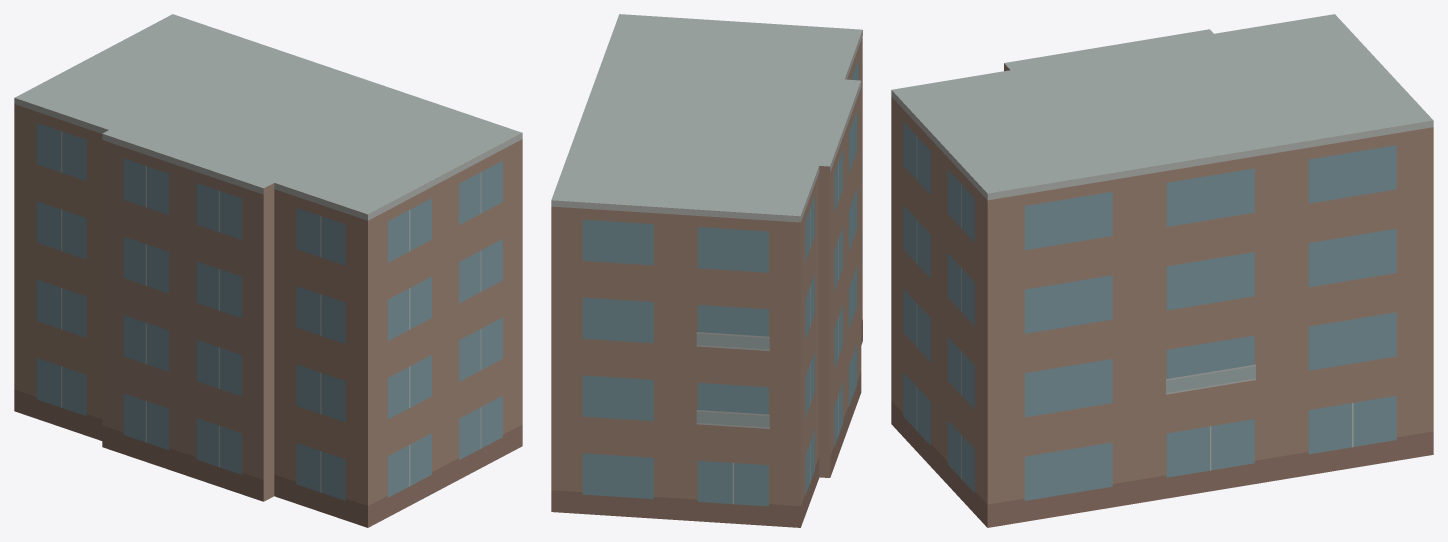
The model's file is survey-upis-32928102.glb.
The picture shows the model from 3 angles, left to right: view 1: azimuth 30°, elevation 25°; view 2: azimuth 150°, elevation 25°; view 3: azimuth 270°, elevation 25°; orthographic projection. The views are drawn at different scales.
Visible parts, largest first — view 1: survey-upis-32928102.tmp; view 2: survey-upis-32928102.tmp; view 3: survey-upis-32928102.tmp.
Part boxes in pixels (bbox=[...]): survey-upis-32928102.tmp: bbox=[14, 14, 522, 527]; survey-upis-32928102.tmp: bbox=[551, 14, 862, 527]; survey-upis-32928102.tmp: bbox=[891, 14, 1433, 527].
Size of the model in its own units: 14.07 by 12.2 by 17.95.
